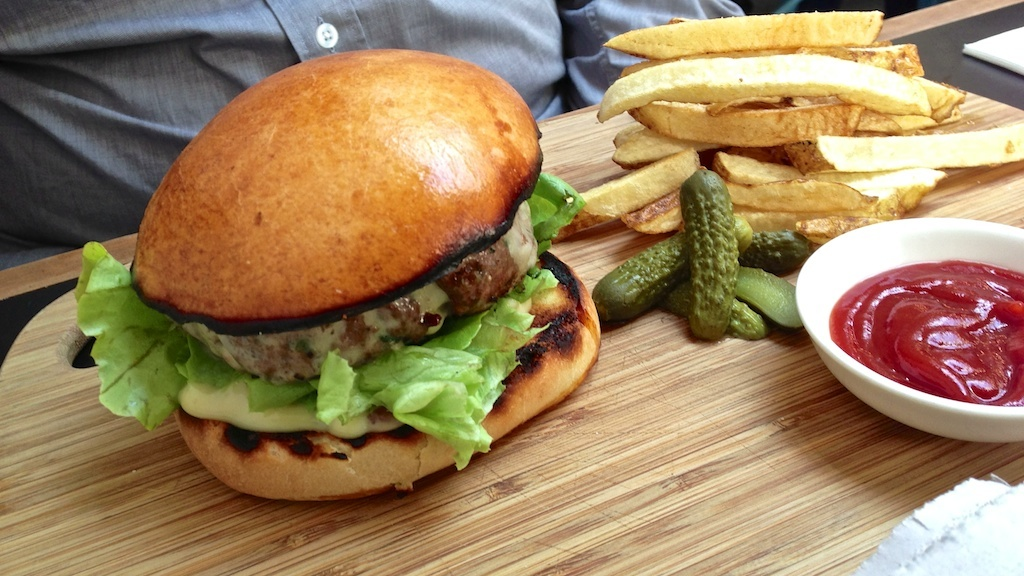Hamburger: (72, 48, 604, 505)
